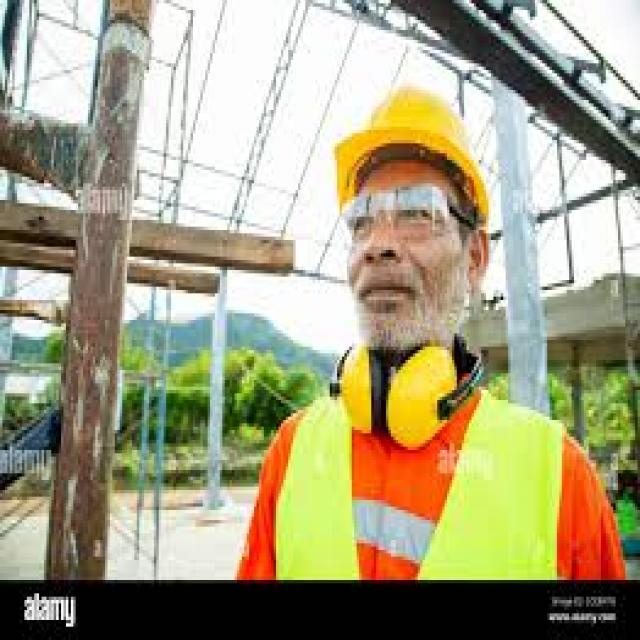Reflective-Jacket: (234, 337, 582, 580)
Safety-Helmet: (325, 76, 503, 236)
